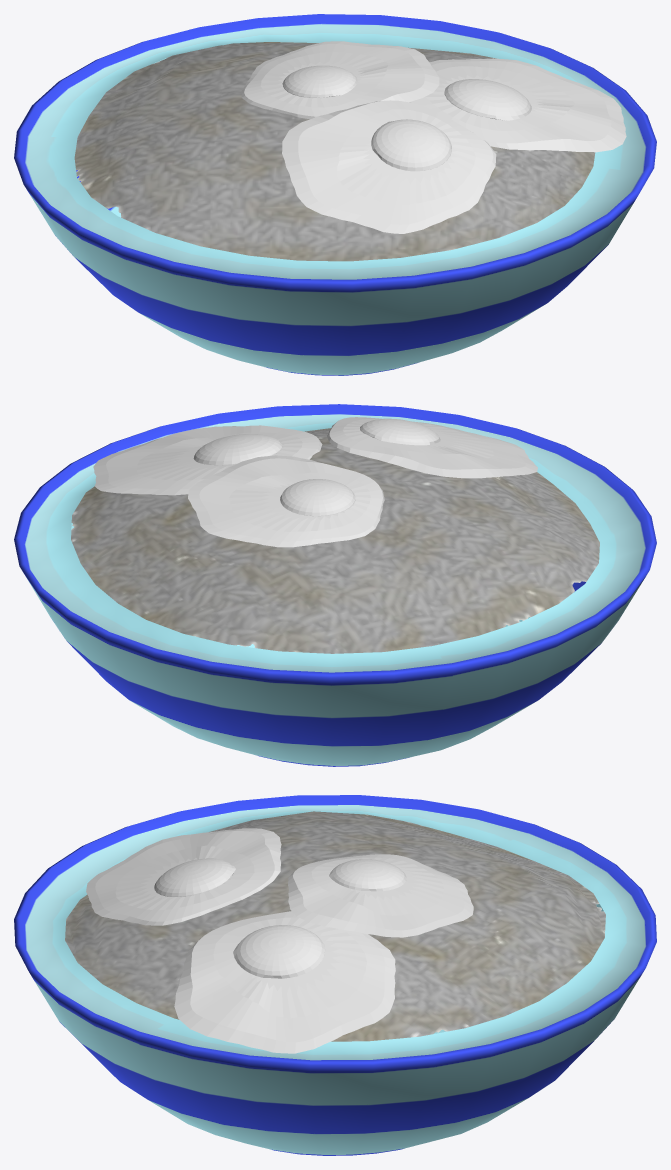
File: HuevoRevuelto.fbx
The picture shows the model from 3 angles, top to bottom: view 1: azimuth 30°, elevation 25°; view 2: azimuth 150°, elevation 25°; view 3: azimuth 270°, elevation 25°; orthographic projection.
Visible parts, largest first — view 1: Huevo.004; view 2: Huevo.004; view 3: Huevo.004.
Boxes of the visible parts, <box> form: Huevo.004: <box>14,14,656,375</box>; Huevo.004: <box>14,404,656,766</box>; Huevo.004: <box>14,795,656,1155</box>.
Bounding box in the file's own units: 588 × 241 × 588.
2 materials, 1 textured.
